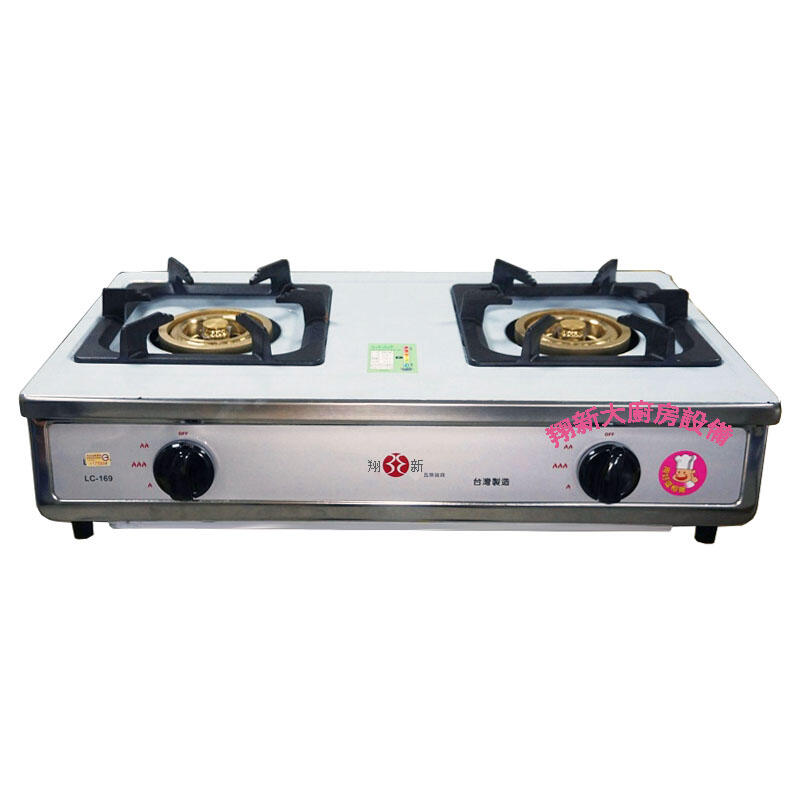gasoven: (15, 248, 781, 553)
